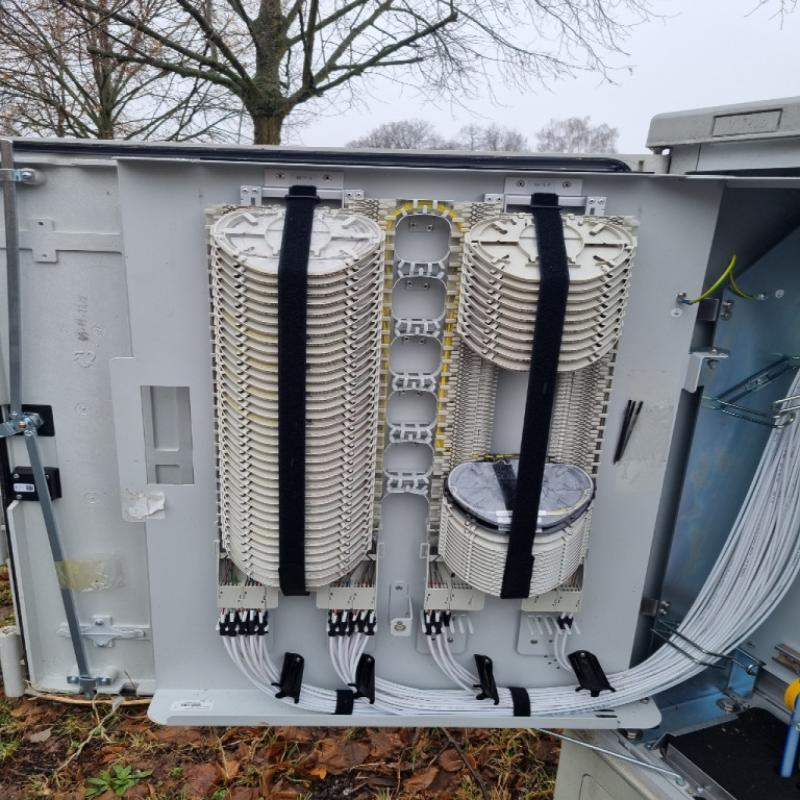NT-Gehause: (0, 102, 800, 800)
Spleiskassetten: (431, 194, 644, 638), (202, 178, 405, 640)
